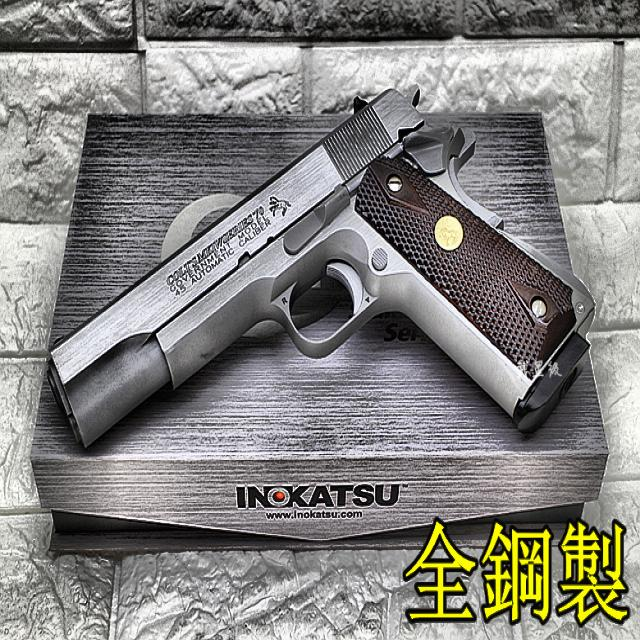Colt m1911: (45, 81, 596, 450)
